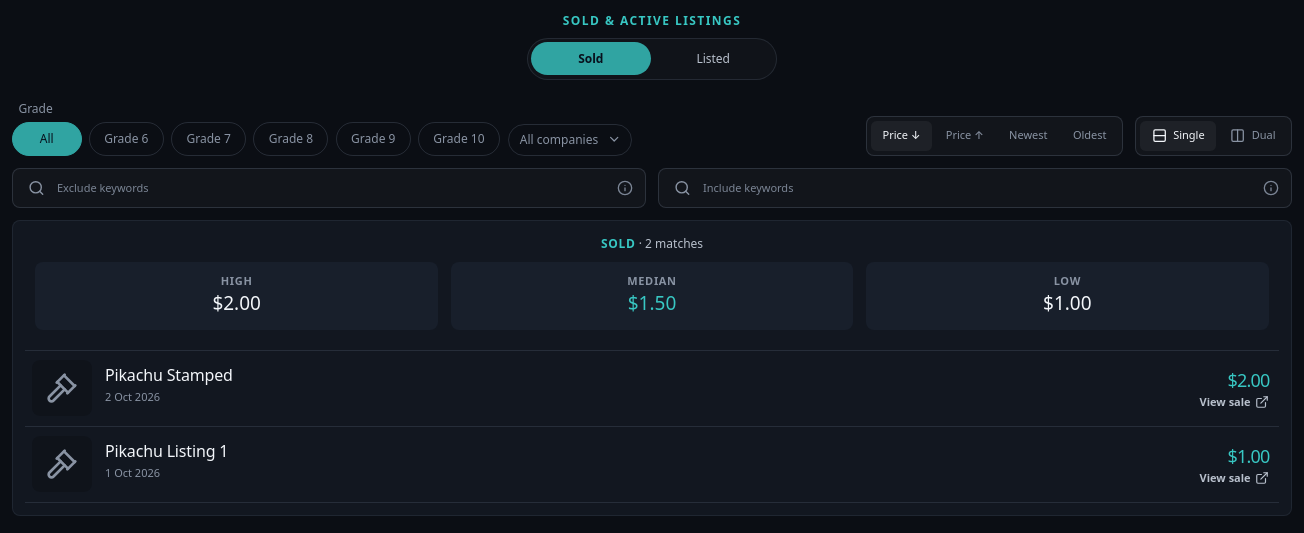
Test: preserves sold/listed and text filtering behavior
Expected: the number of links "View sale" is 2, [1200, 392, 1269, 411]; [1200, 469, 1269, 487]
Expected: the message reads "Sold · 2 matches", [601, 234, 703, 252]
Click the radio button labelled "Listed" at x=713, y=58, box [696, 50, 730, 67]
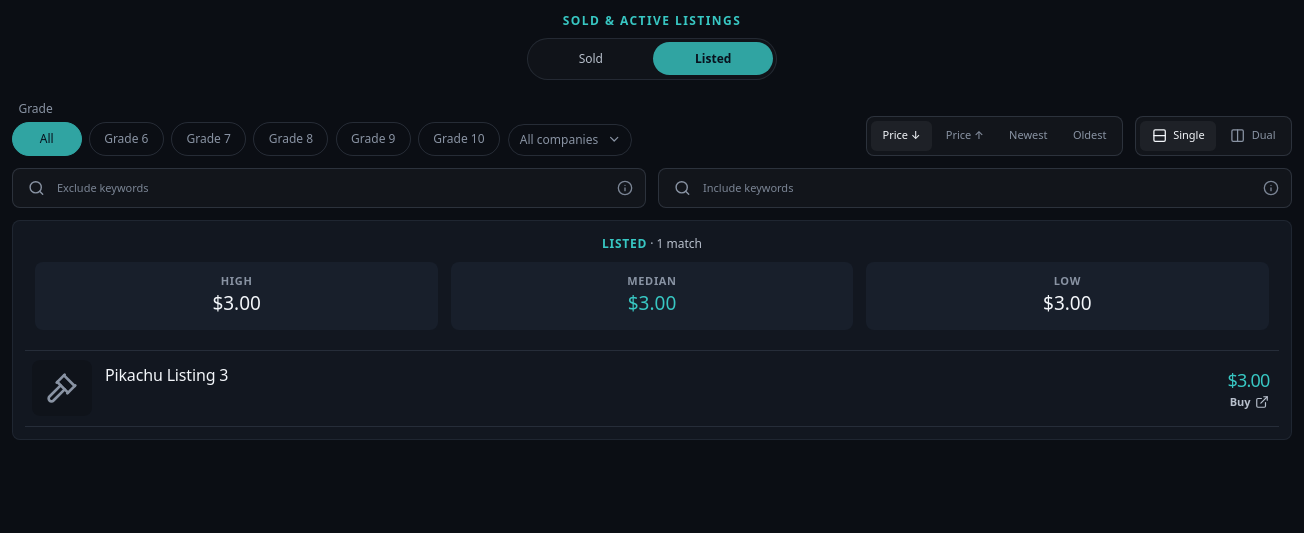
Now the number of links "Buy" is 1, box [1230, 392, 1269, 411]
Now the message reads "Listed · 1 match", box [602, 234, 702, 252]
Click the radio button labelled "Sold" at x=591, y=58, box [579, 50, 603, 67]
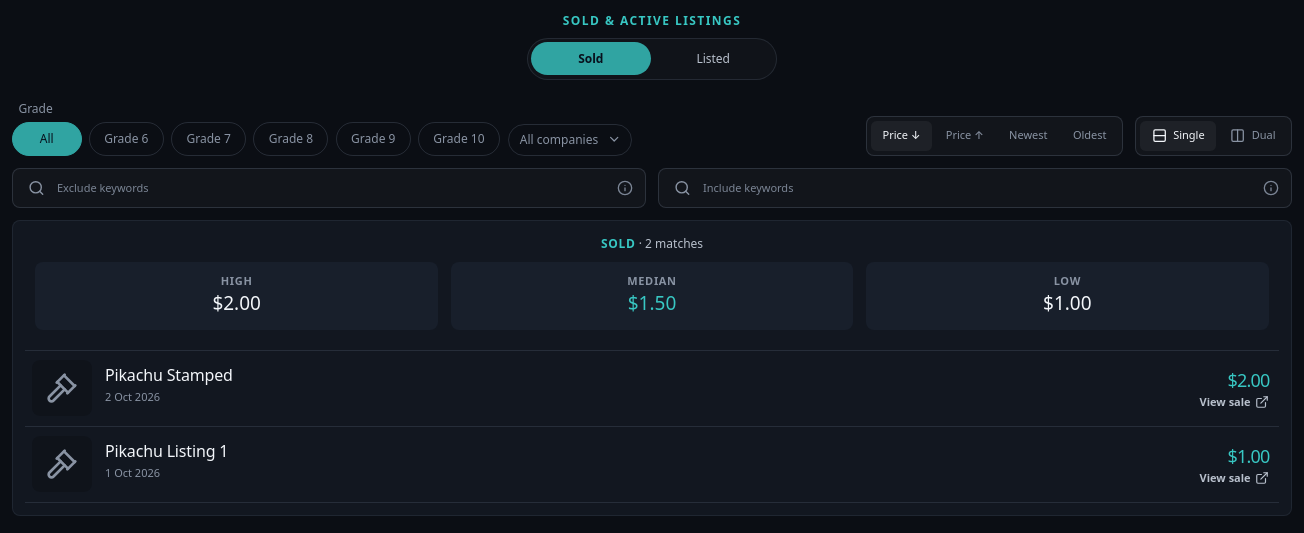
Type "stamped" into the search field labelled "Include keywords" at x=975, y=188, box [658, 168, 1292, 208]
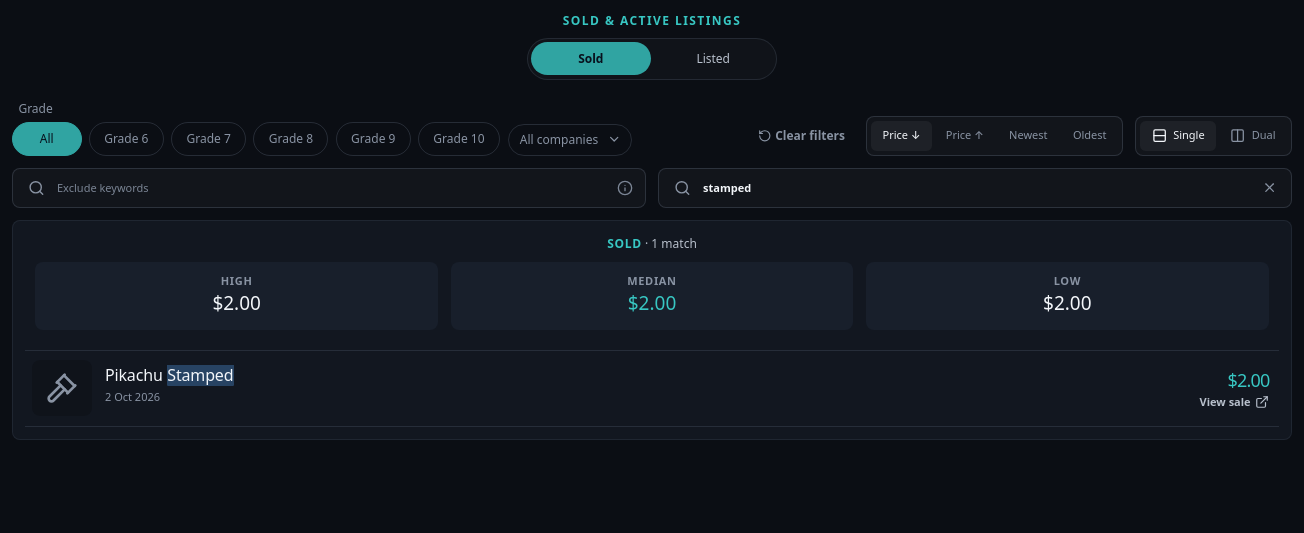
Now the heading "Pikachu Stamped" is shown, box [105, 364, 234, 386]
Now the message reads "Sold · 1 match", box [607, 234, 697, 252]
Replace the text in the search field named "Include keywords" with "missing" at x=975, y=188, box [658, 168, 1292, 208]
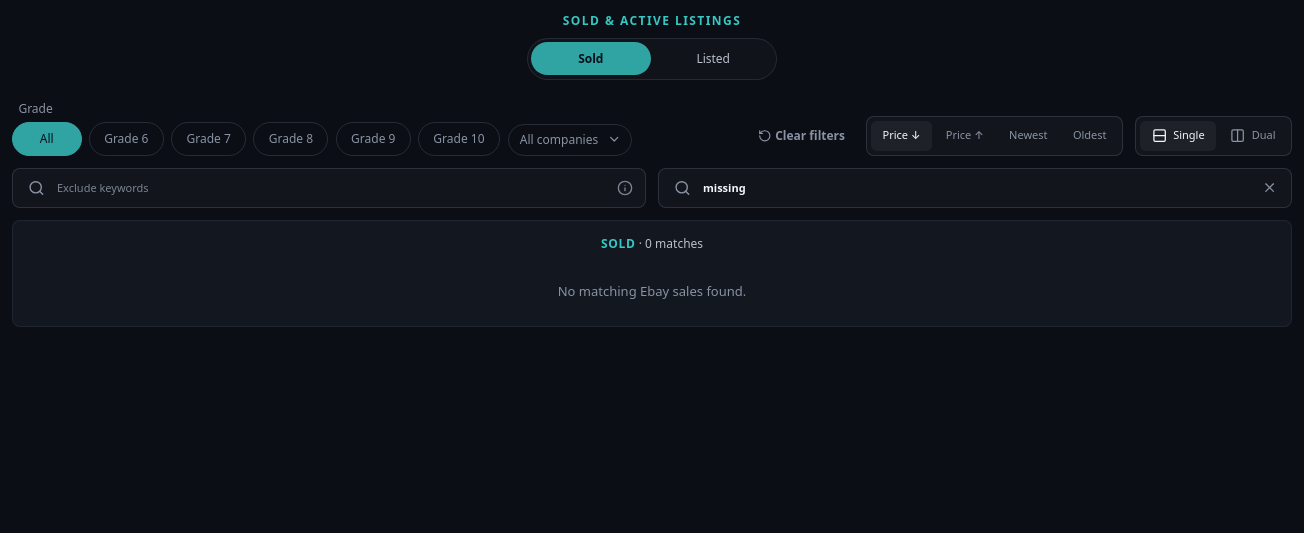
Now the message reads "Sold · 0 matches", box [601, 234, 703, 252]
Click the button named "Clear included keywords" at x=1269, y=188, box [1255, 174, 1283, 202]
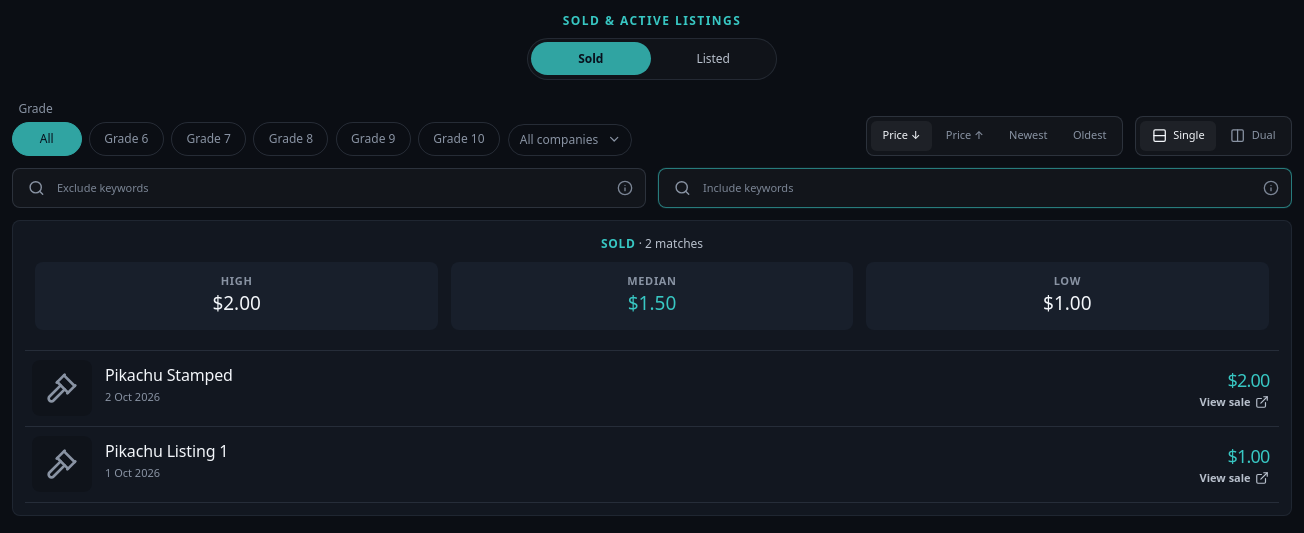
Now the message reads "Sold · 2 matches", box [601, 234, 703, 252]
